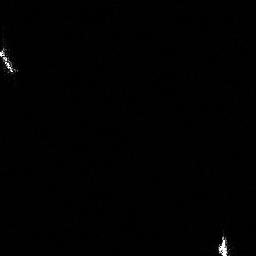ship: (1, 45, 18, 74), (214, 233, 231, 256)
